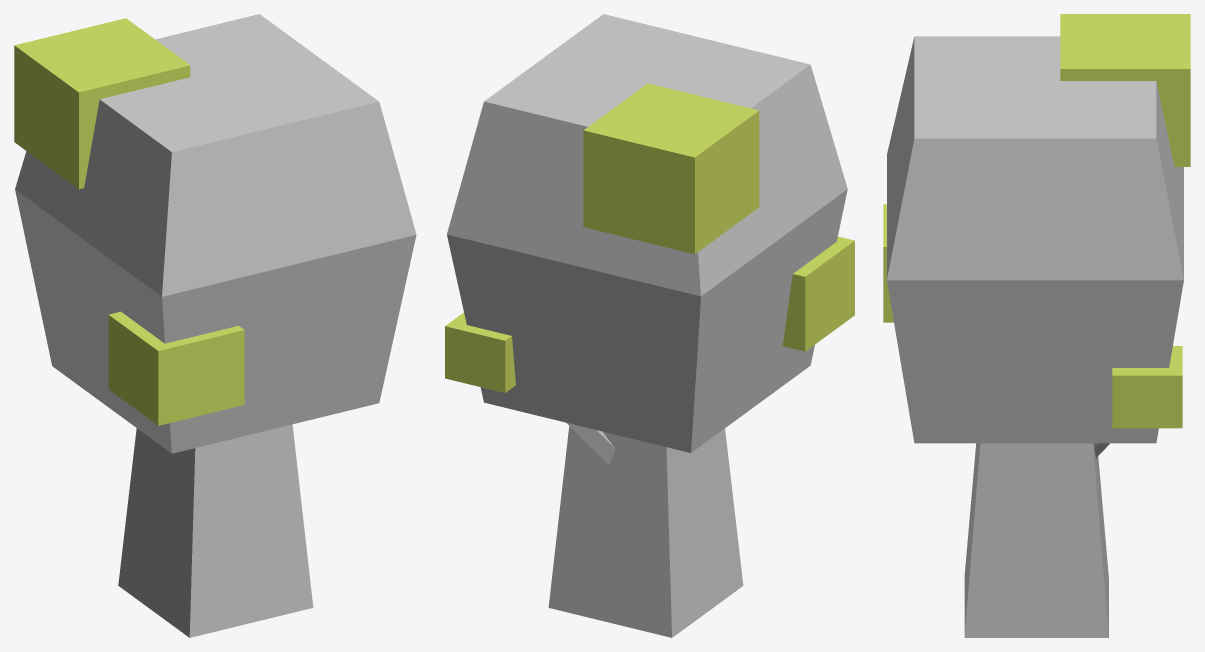
The model's file is Copac-3.fbx.
The picture shows the model from 3 angles, left to right: view 1: azimuth 30°, elevation 25°; view 2: azimuth 150°, elevation 25°; view 3: azimuth 270°, elevation 25°; orthographic projection.
Visible parts, largest first — view 1: Cube.008; view 2: Cube.008; view 3: Cube.008.
Boxes of the visible parts, x1,y1,x2,y2 form: Cube.008: (14,14,416,637); Cube.008: (445,14,854,637); Cube.008: (883,14,1190,637).
Size of the model in its own units: 1.85 by 3.55 by 1.86.
